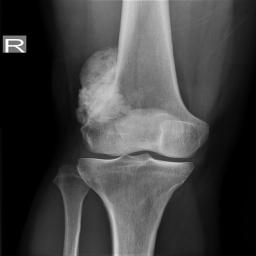cancer: (77, 47, 129, 125)
